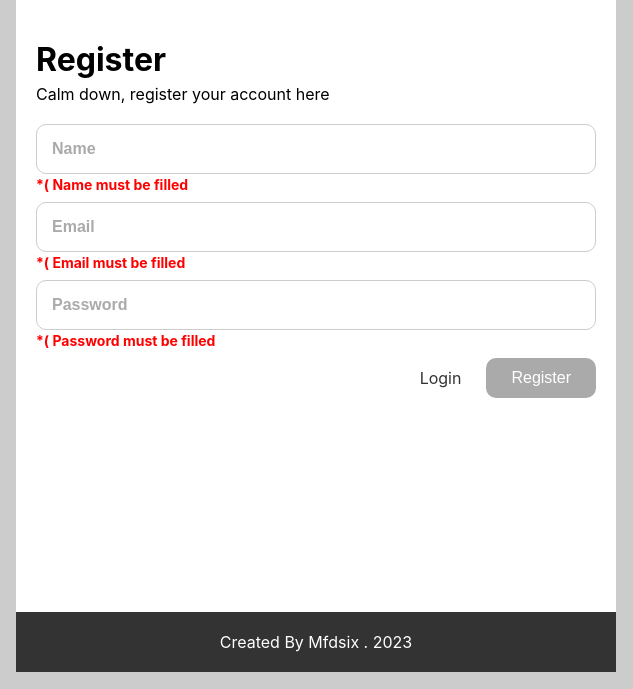
register account › enable register button
The image size is (633, 689).
Type "username" into the field with placeholder "Name" at (316, 149), box [36, 124, 596, 174]
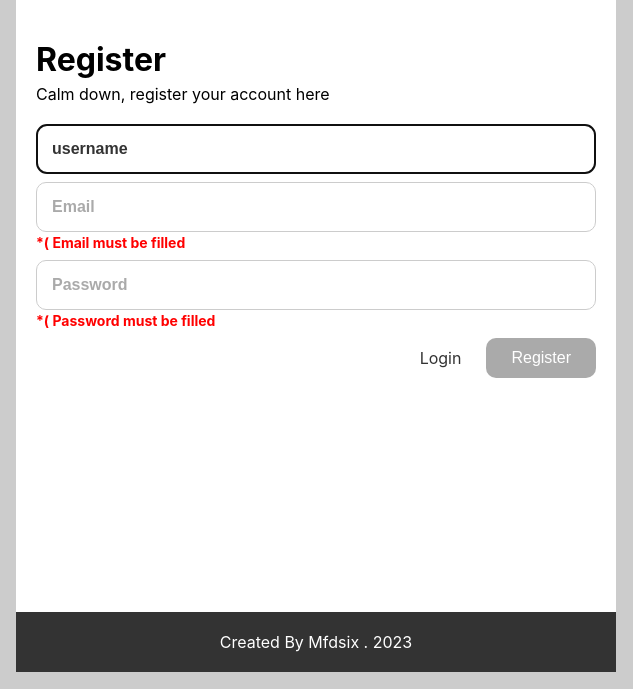
Type "email@mail.com" into the field with placeholder "Email" at (316, 207), box [36, 182, 596, 232]
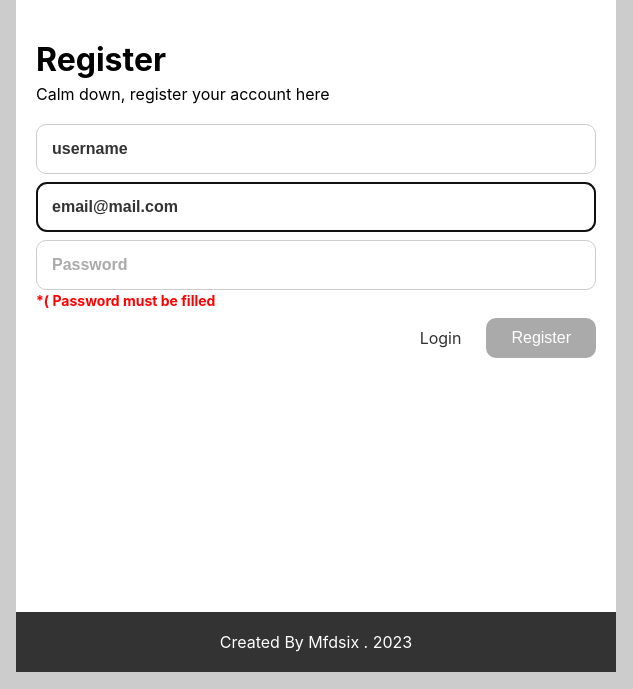
Type "password" into the password field with placeholder "Password" at (316, 265), box [36, 240, 596, 290]
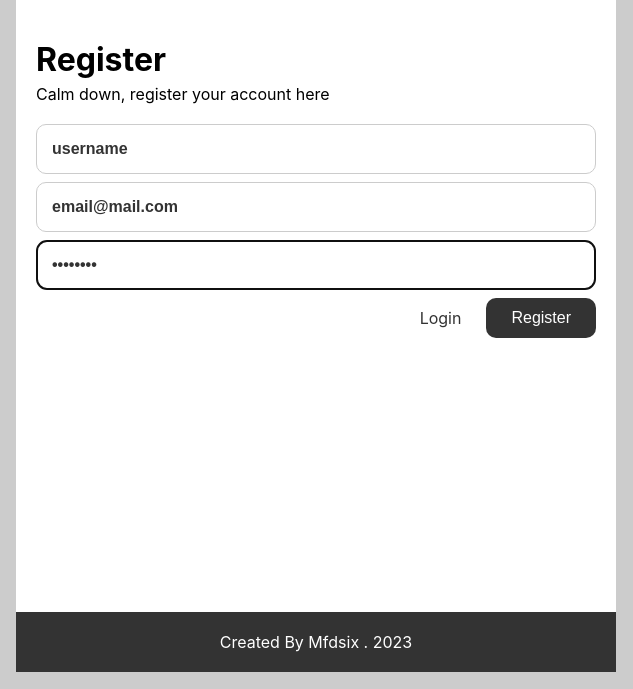
Expected: the button "Register" is enabled, [486, 298, 596, 338]
